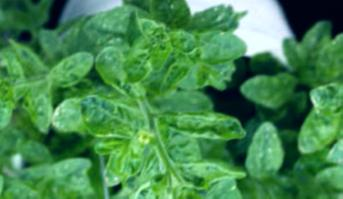Tomato leaf mosaic virus: (74, 95, 152, 145), (166, 110, 251, 140), (40, 48, 96, 91), (309, 83, 343, 113), (168, 30, 210, 52)
